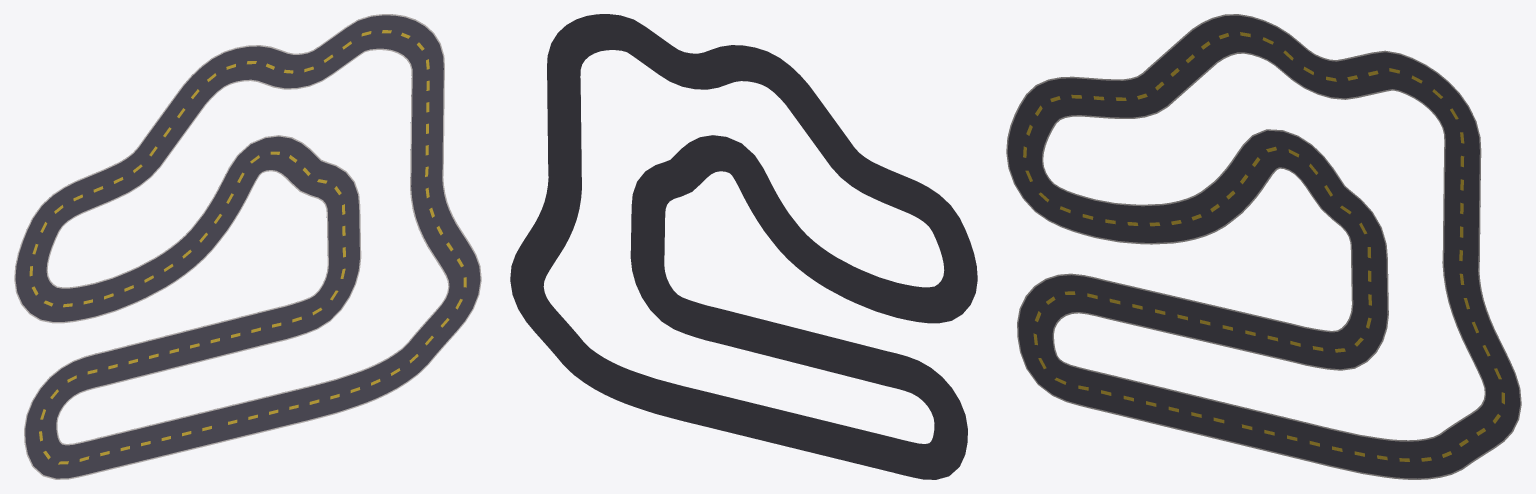
Rendered from track.obj.
3 views of the same model, side by side, from view 1: azimuth 30°, elevation 25°; view 2: azimuth 150°, elevation 25°; view 3: azimuth 330°, elevation 25° (orthographic). The views are drawn at different scales.
Size of the model in its own units: 14.85 by 11.88 by 0.002.
